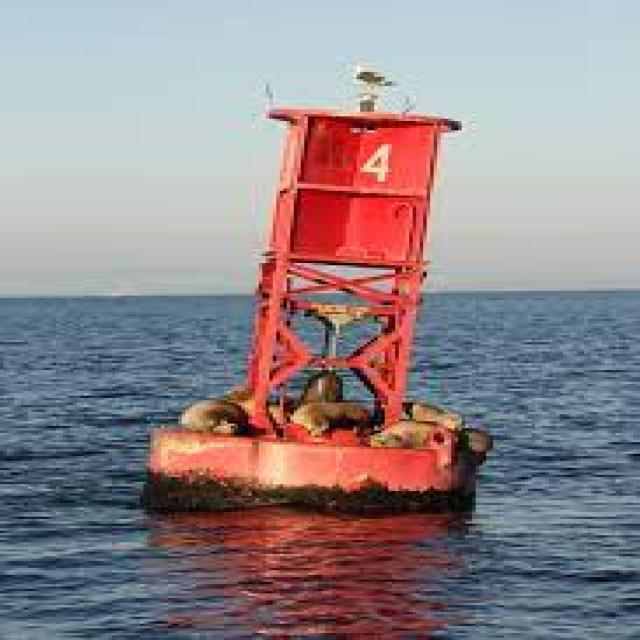2.1 lateral mark -P-: (128, 33, 508, 528)
